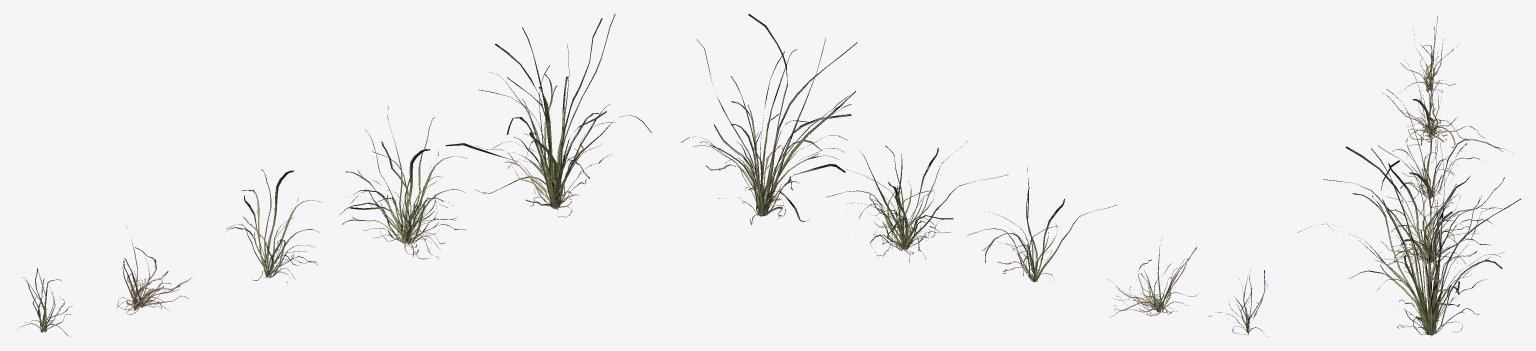
The model's file is grass_medium_02.glb.
3 renders of one model, left to right at view 1: azimuth 30°, elevation 25°; view 2: azimuth 150°, elevation 25°; view 3: azimuth 270°, elevation 25°, orthographic. The views are drawn at different scales.
Parts seen in each view (by area): view 1: grass_medium_02_a; view 2: grass_medium_02_a; view 3: grass_medium_02_a.
Boxes of the visible parts, x1,y1,x2,y2 form: grass_medium_02_a: [20, 14, 651, 336]; grass_medium_02_a: [681, 14, 1267, 336]; grass_medium_02_a: [1298, 16, 1521, 336].
Size of the model in its own units: 1.31 by 0.4053 by 0.4332.
1 material, 1 textured.
